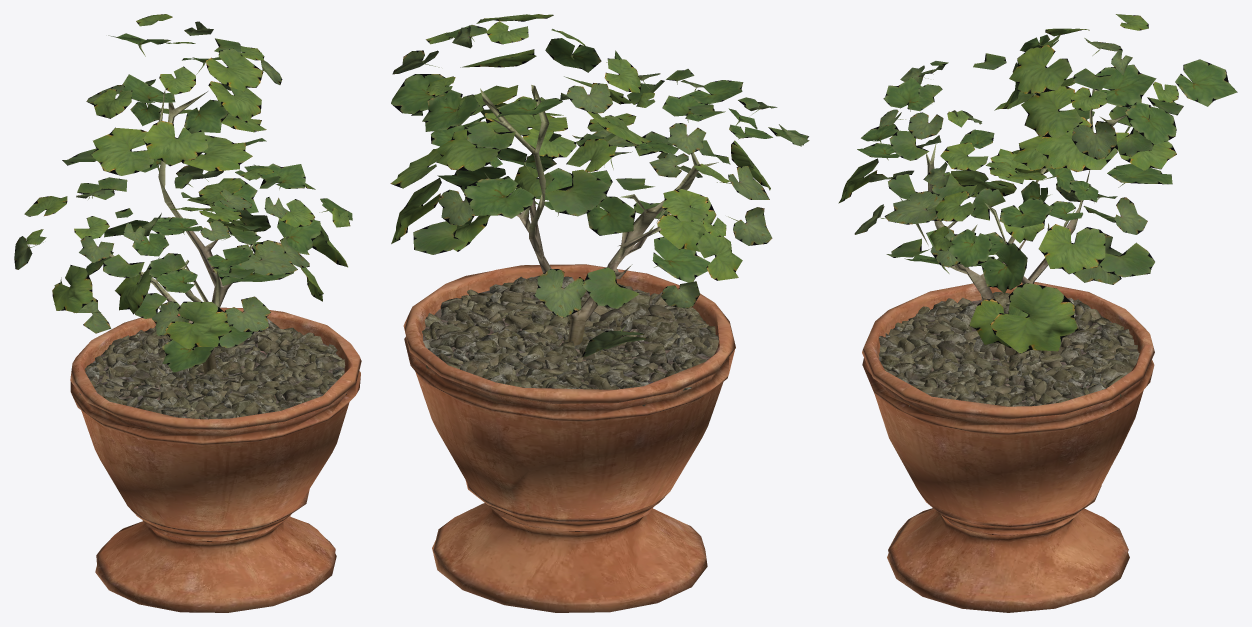
Rendered from potted_plant_01.glb.
3 renders of one model, left to right at view 1: azimuth 30°, elevation 25°; view 2: azimuth 150°, elevation 25°; view 3: azimuth 270°, elevation 25°, orthographic. The views are drawn at different scales.
Visible parts, largest first — view 1: potted_plant_01_pot, potted_plant_01_leaves, potted_plant_01_pebbles, potted_plant_01_stem; view 2: potted_plant_01_pot, potted_plant_01_leaves, potted_plant_01_pebbles, potted_plant_01_stem; view 3: potted_plant_01_pot, potted_plant_01_leaves, potted_plant_01_pebbles, potted_plant_01_stem.
Boxes of the visible parts, box(x1,y1,x2,y2) form: potted_plant_01_pot: box(70, 307, 361, 612); potted_plant_01_leaves: box(14, 14, 352, 372); potted_plant_01_pebbles: box(79, 318, 346, 427); potted_plant_01_stem: box(109, 89, 256, 373); potted_plant_01_pot: box(403, 264, 735, 612); potted_plant_01_leaves: box(390, 14, 809, 357); potted_plant_01_pebbles: box(422, 275, 718, 406); potted_plant_01_stem: box(480, 85, 718, 345); potted_plant_01_pot: box(862, 282, 1154, 612); potted_plant_01_leaves: box(838, 14, 1237, 353); potted_plant_01_pebbles: box(879, 292, 1139, 409); potted_plant_01_stem: box(900, 89, 1126, 356).
Size of the model in its own units: 0.3995 by 0.5932 by 0.4.
2 materials, 2 textured.
